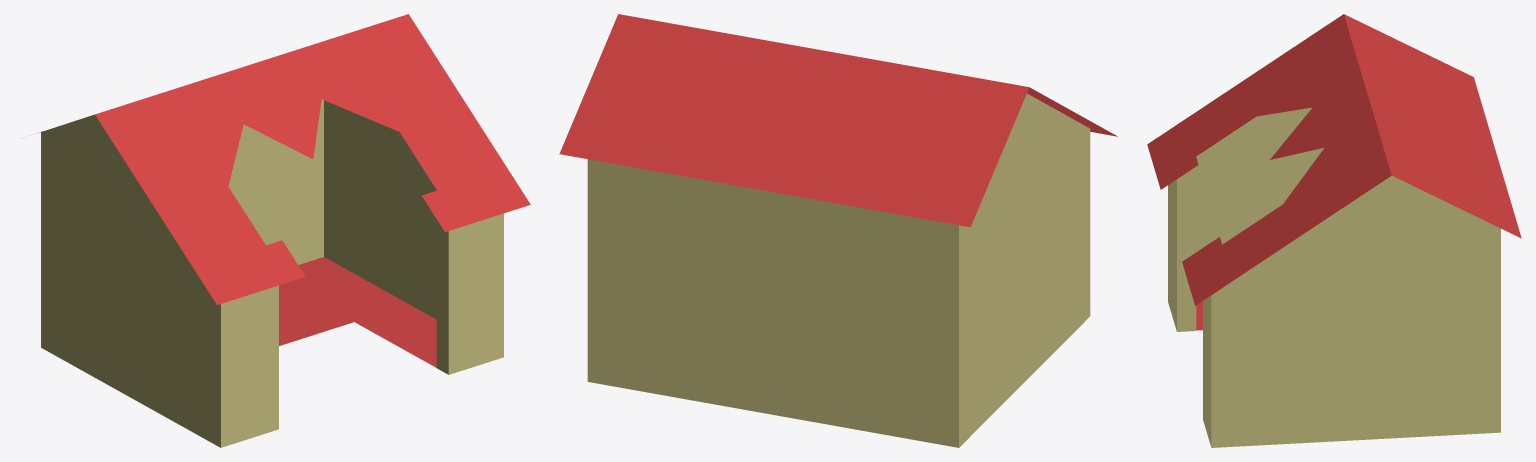
3 renders of one model, left to right at view 1: azimuth 30°, elevation 25°; view 2: azimuth 150°, elevation 25°; view 3: azimuth 270°, elevation 25°, orthographic. The views are drawn at different scales.
Bounding box in the file's own units: 16.97 × 15.02 × 11.98.
